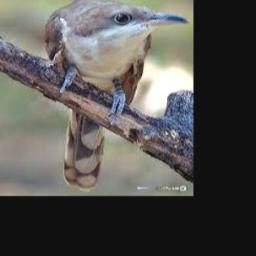Cuckoo: (43, 0, 190, 188)
